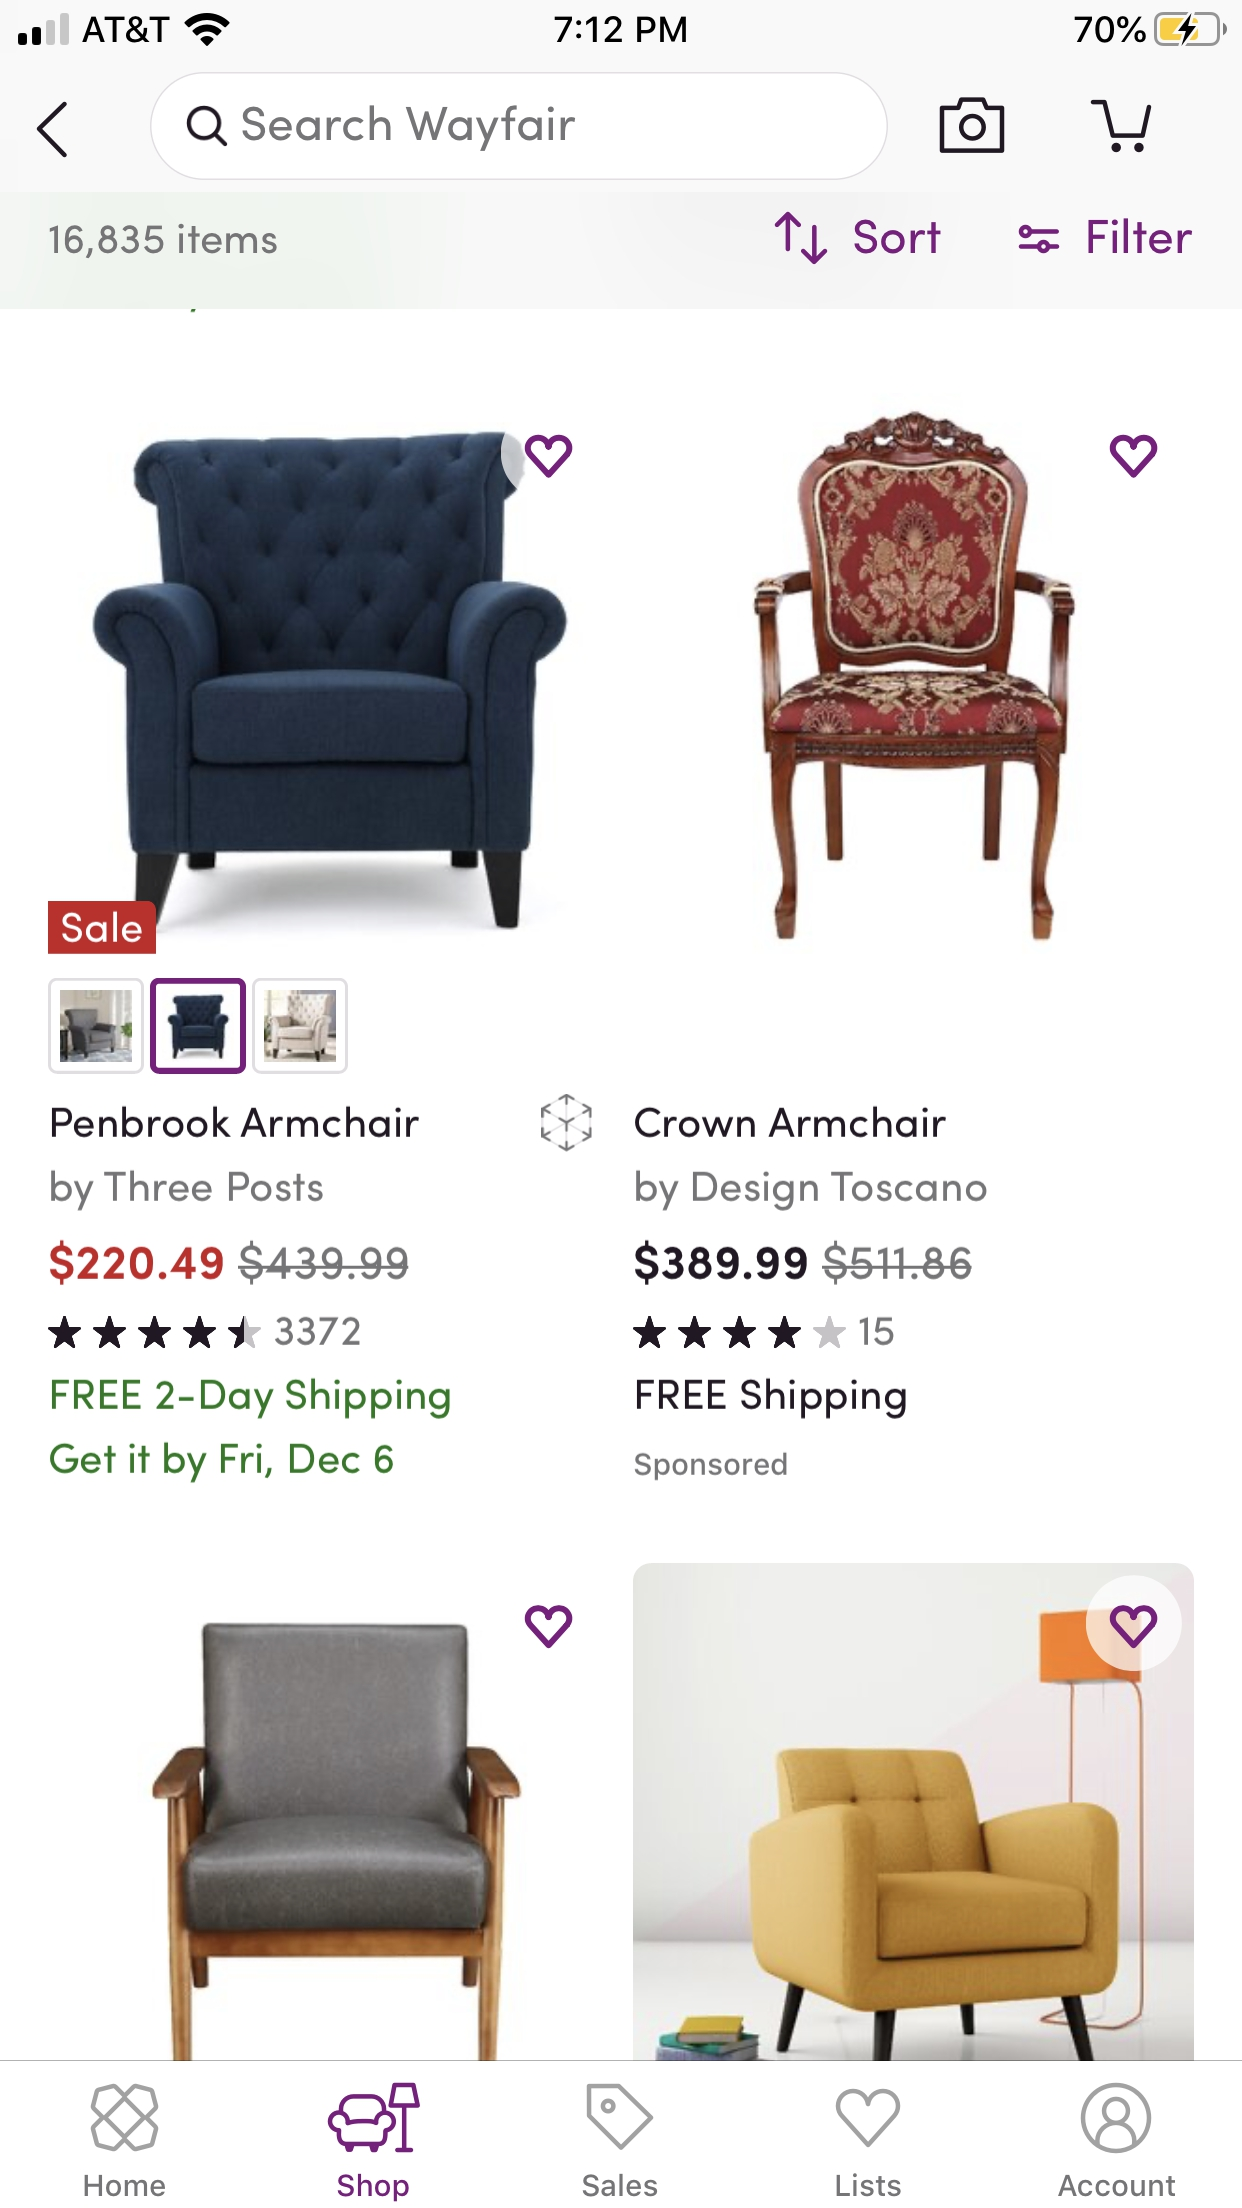EditText: (152, 71, 889, 180)
Icon: (1087, 1576, 1181, 1673), (49, 1316, 262, 1350), (632, 1316, 846, 1350), (1081, 2084, 1153, 2153), (587, 2084, 654, 2150), (939, 99, 1005, 155), (836, 2090, 899, 2147), (1090, 100, 1153, 153), (775, 212, 828, 265), (525, 1606, 573, 1648), (1110, 437, 1159, 479), (525, 437, 573, 479), (36, 102, 68, 159), (187, 106, 227, 149), (1018, 224, 1060, 253)
Image: (634, 1563, 1195, 2061), (49, 434, 567, 955), (754, 412, 1077, 940), (152, 1623, 522, 2061), (49, 980, 146, 1075), (253, 980, 349, 1075), (152, 978, 247, 1074), (328, 2084, 422, 2153), (91, 2084, 159, 2152), (541, 1093, 593, 1153)
Text: (53, 1378, 450, 1419), (52, 1240, 409, 1284), (243, 106, 576, 153), (635, 1240, 972, 1284), (637, 1171, 987, 1212), (52, 1444, 394, 1483), (53, 1106, 420, 1137), (52, 1171, 325, 1212), (637, 1378, 905, 1419), (635, 1106, 946, 1137), (52, 224, 278, 259), (635, 1453, 787, 1482), (1087, 218, 1192, 253), (854, 221, 942, 255), (1059, 2175, 1175, 2196), (276, 1316, 361, 1345), (338, 2173, 409, 2200), (85, 2175, 165, 2197), (582, 2173, 658, 2196), (837, 2173, 901, 2197), (858, 1316, 895, 1347)
UpperTaskBar: (2, 2, 1242, 49)
